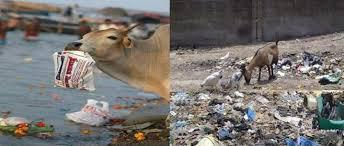Plastic: (51, 48, 100, 92), (65, 97, 111, 135)
